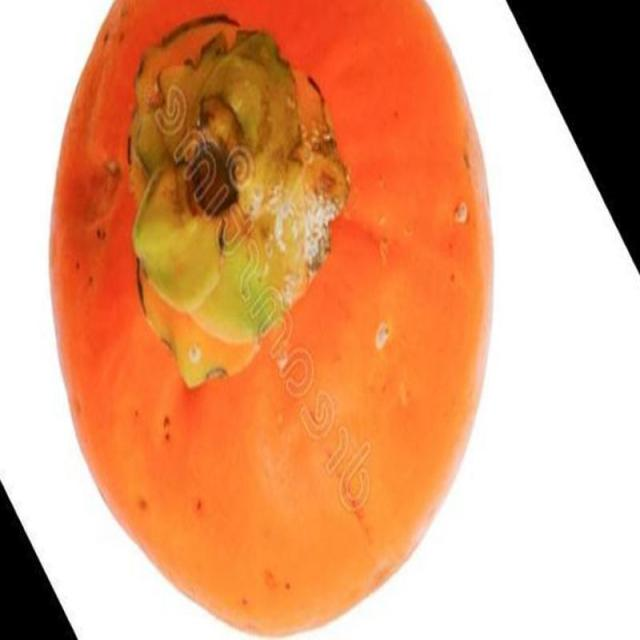good: (47, 0, 499, 639)
